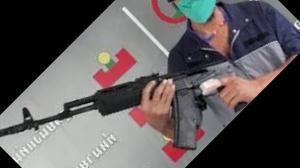larga: (0, 51, 248, 151)
